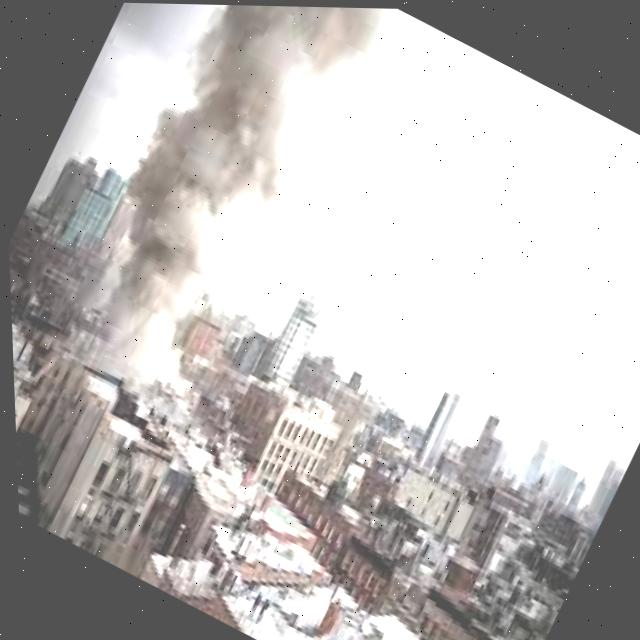Smoke: (12, 0, 426, 446)
